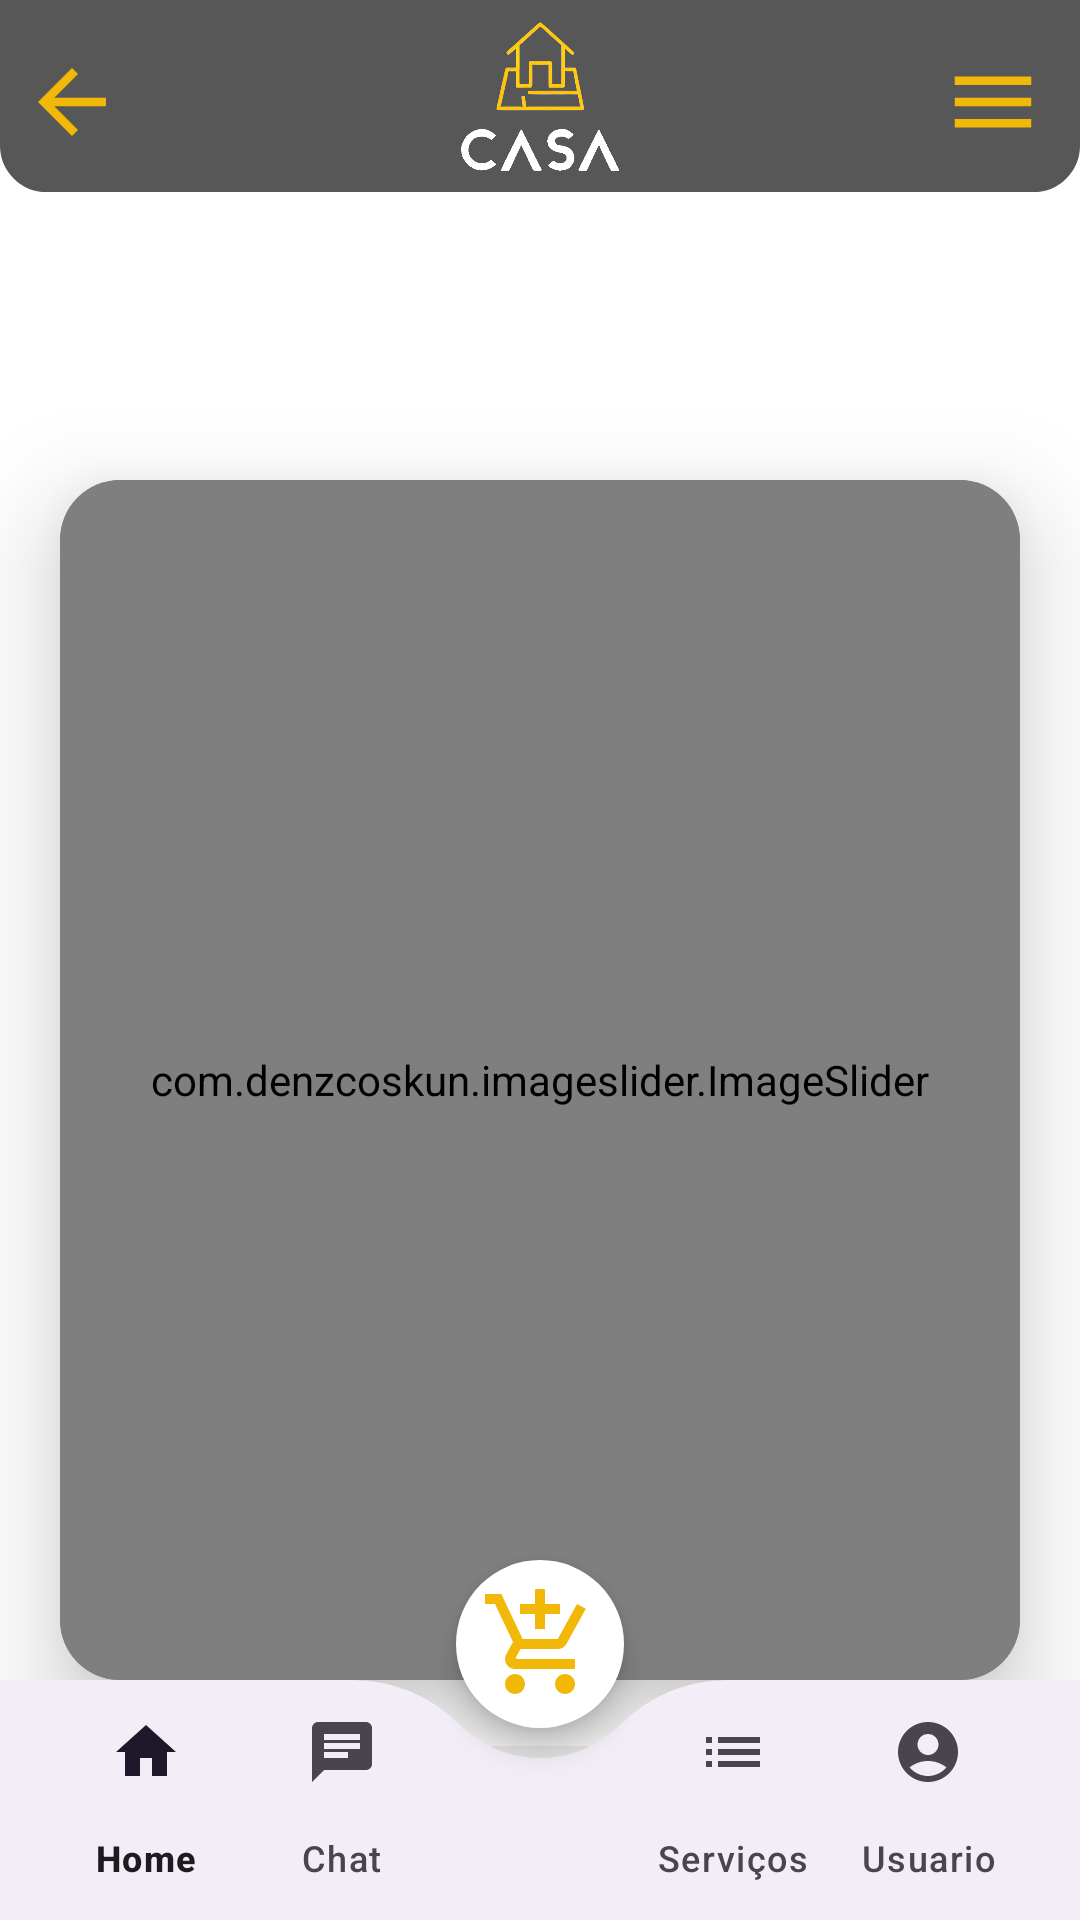

Screen size 1080w x 1920h. Icon name, then its box in pixels as [left=x1, top=y1, right=x2, bottom=y2]:
arrow back: [left=38, top=68, right=106, bottom=136]
menu: [left=954, top=76, right=1032, bottom=128]
